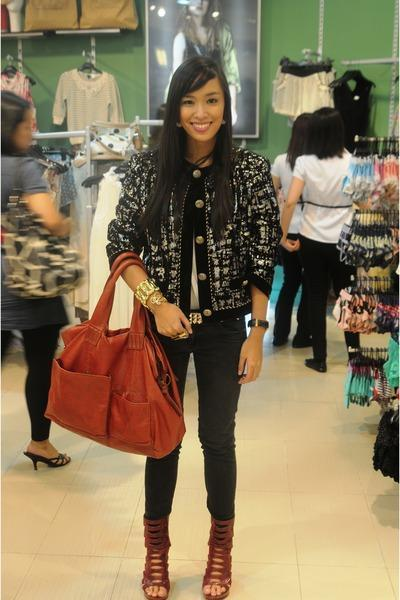bag: (67, 300, 185, 458)
jacket: (106, 141, 287, 310)
pants: (144, 301, 268, 527)
shoe: (144, 517, 233, 556)
